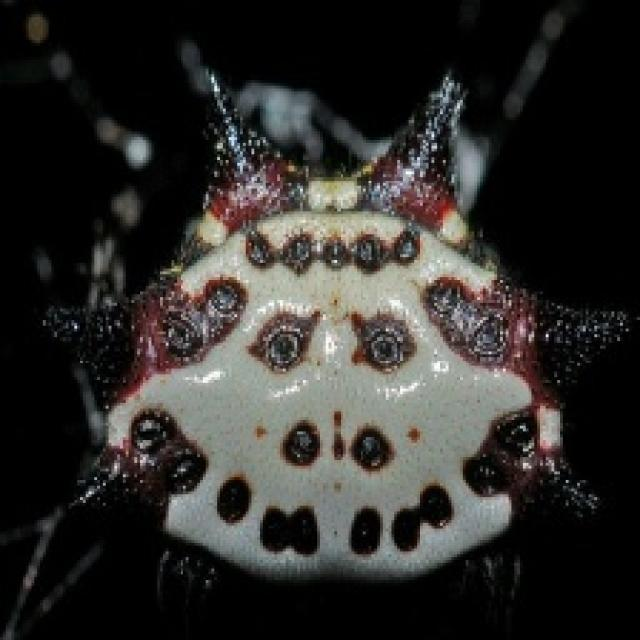Non venomous spider: (35, 78, 617, 627)
